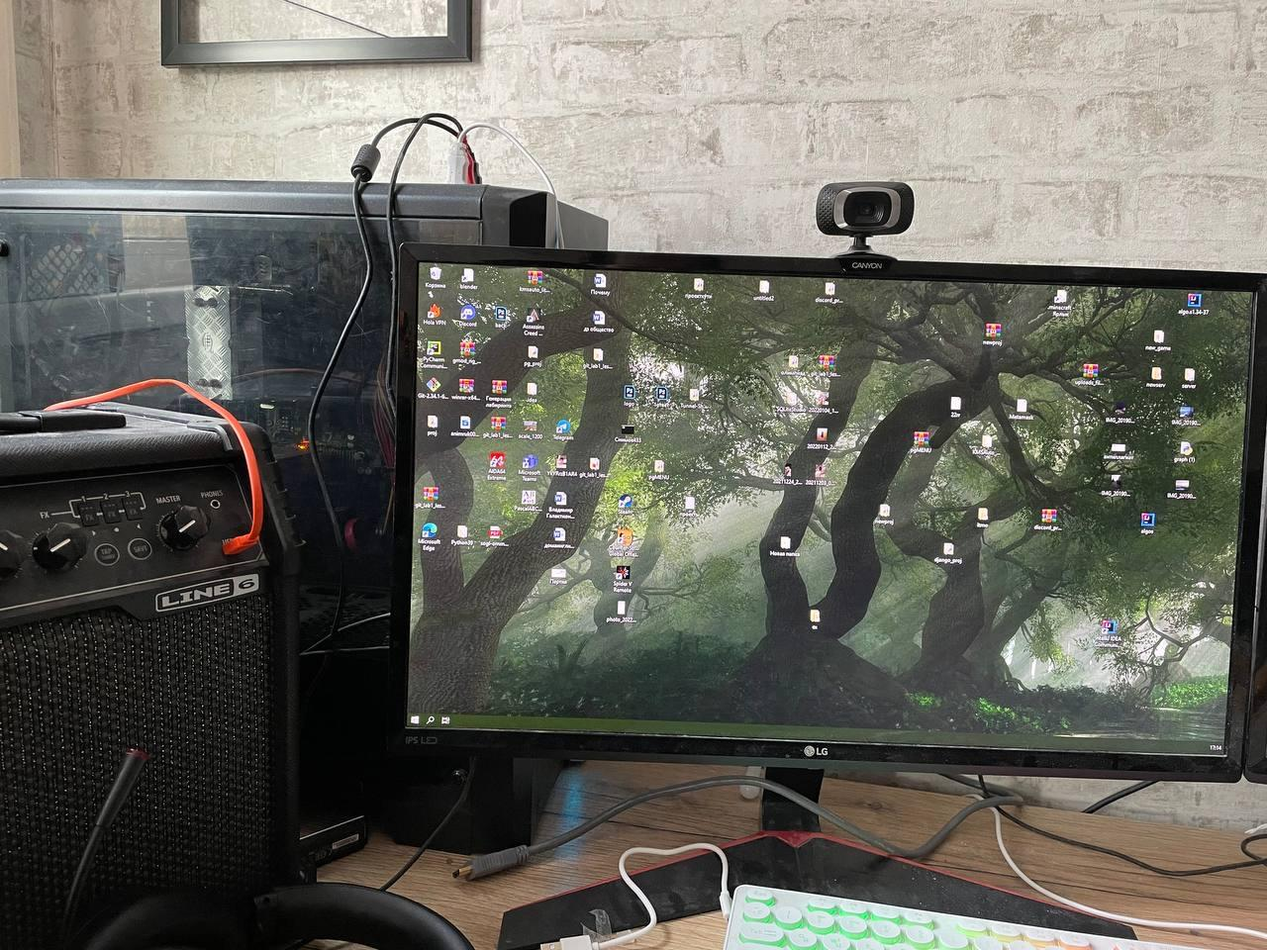monitor: (393, 238, 1267, 805)
